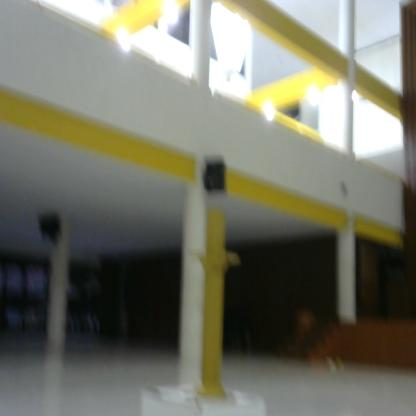pole: (178, 203, 251, 411)
